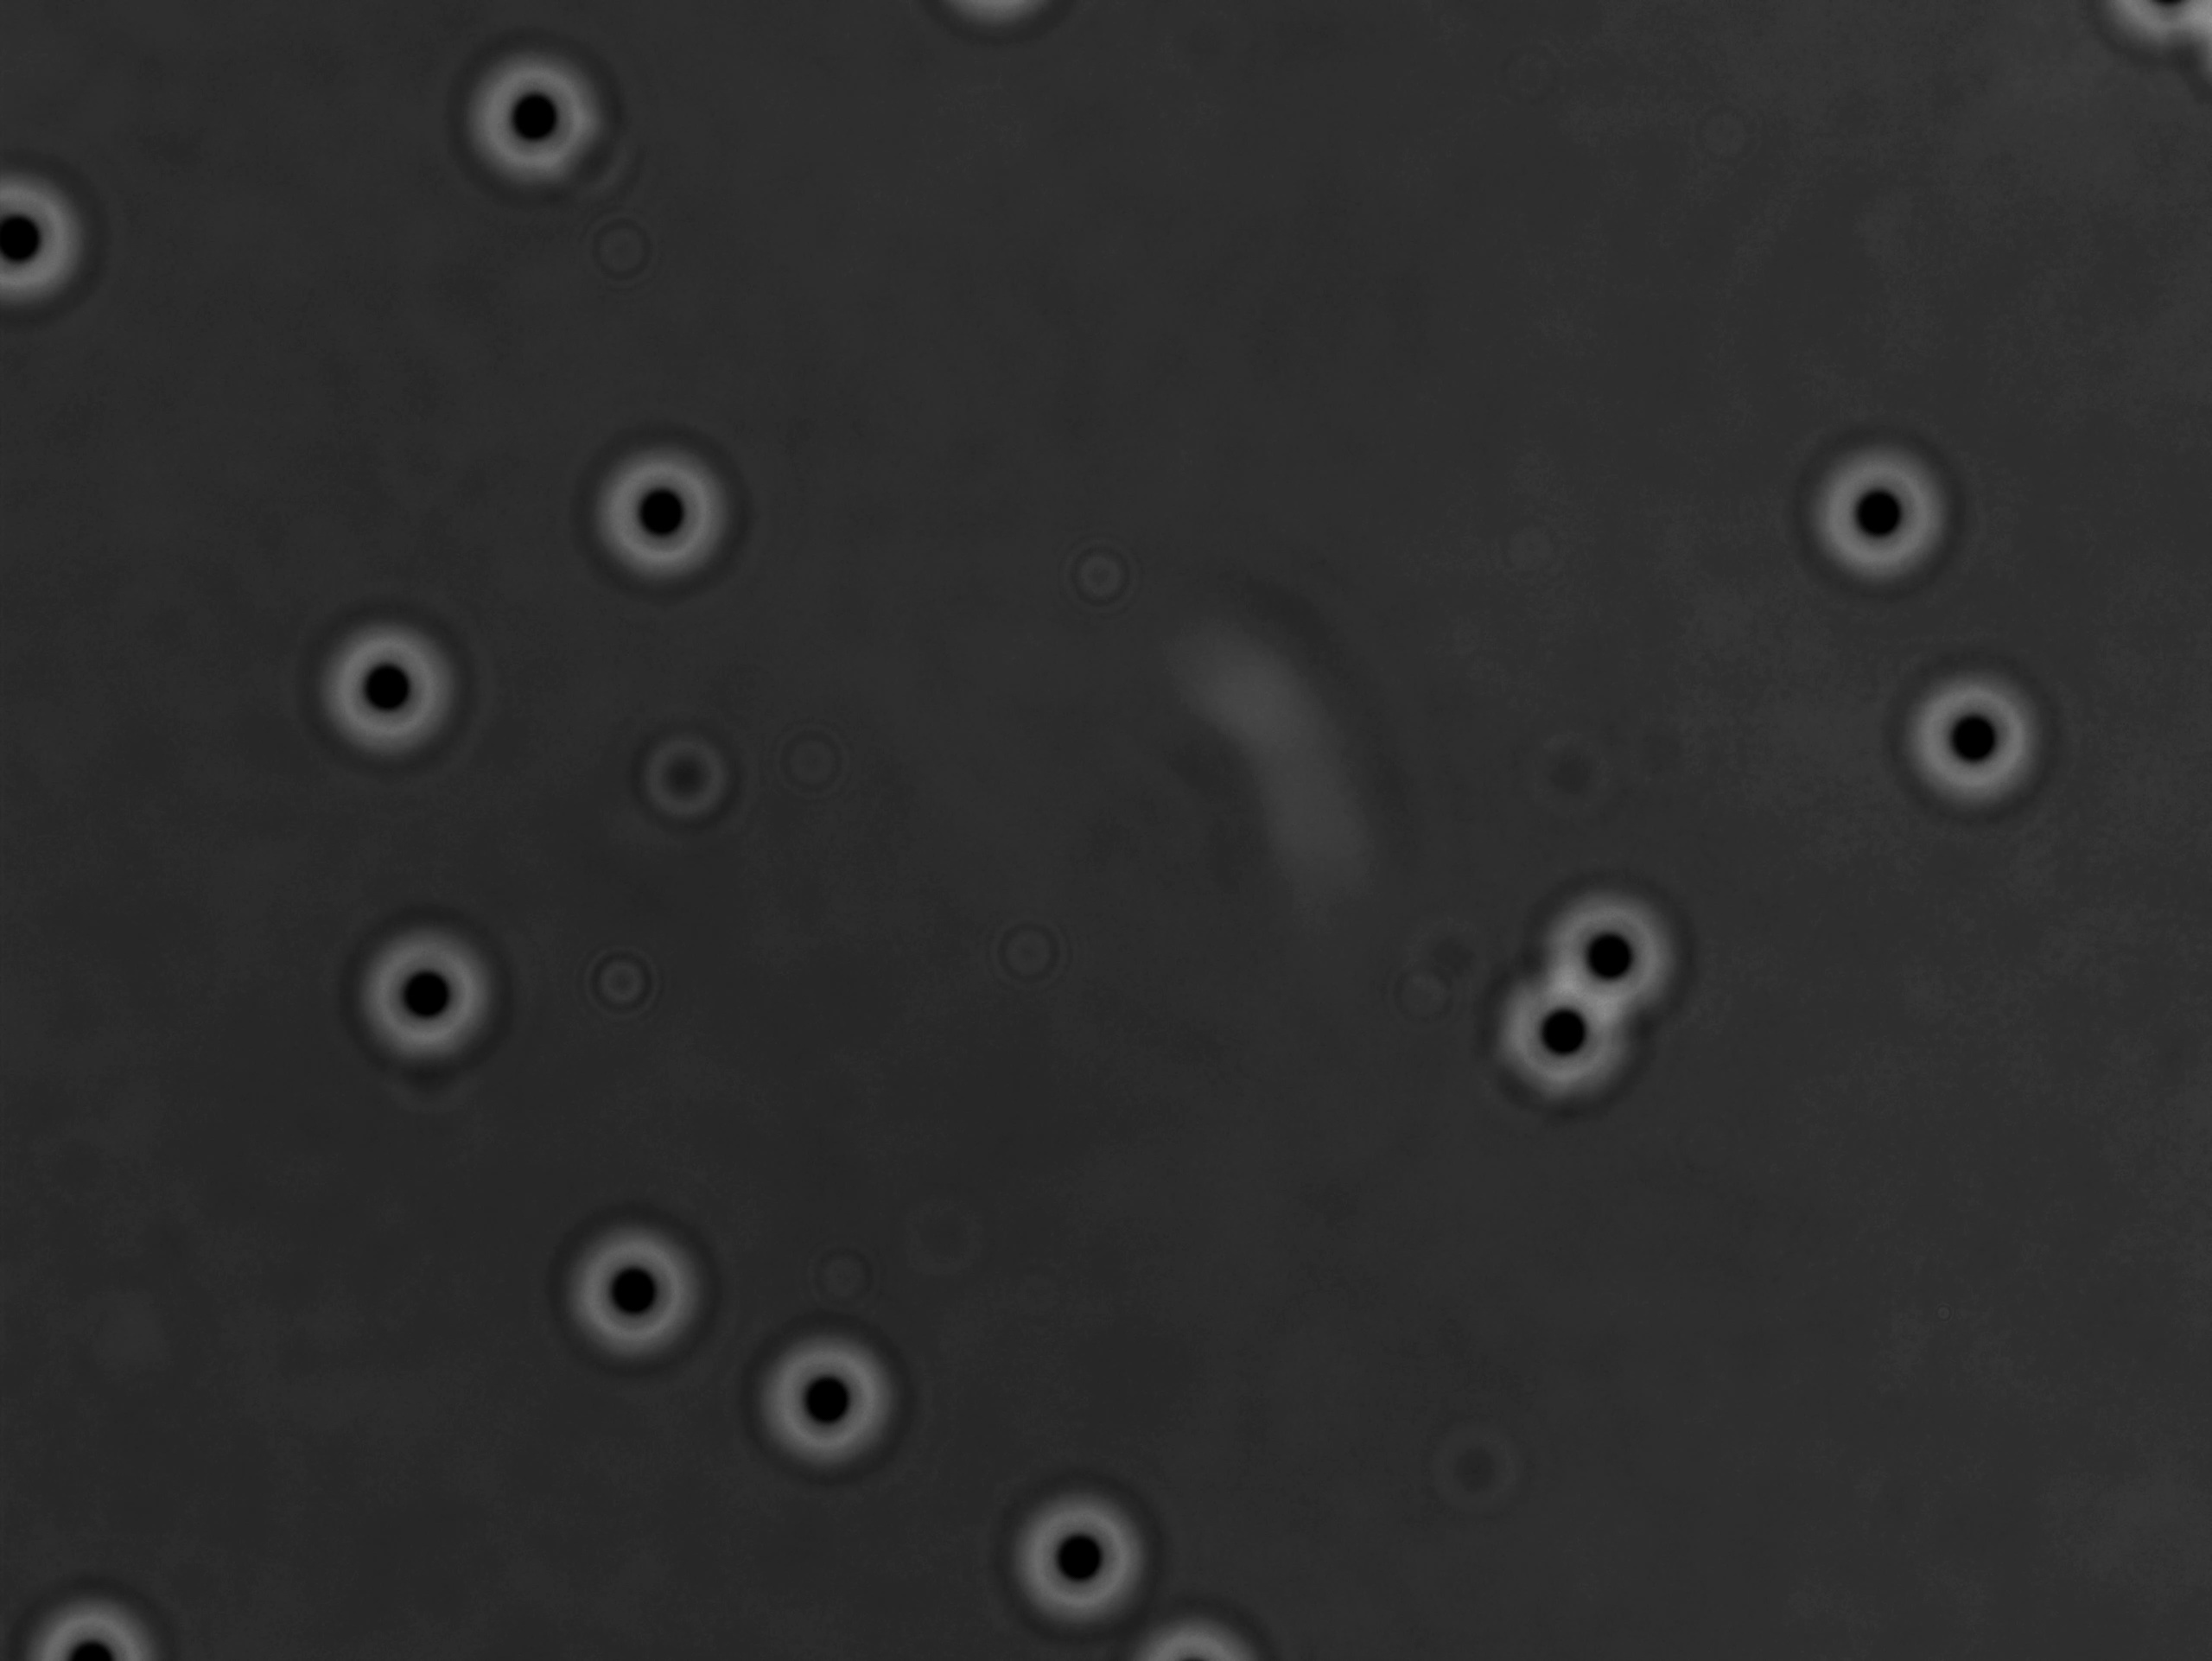depth:-40: (1884, 647, 2058, 818), (455, 35, 619, 201), (349, 918, 520, 1073), (550, 1202, 707, 1370), (584, 429, 740, 590), (309, 611, 471, 764), (1802, 440, 1963, 588), (745, 1329, 902, 1480), (1540, 881, 1687, 1026), (1005, 1490, 1144, 1631), (1488, 967, 1631, 1104)
